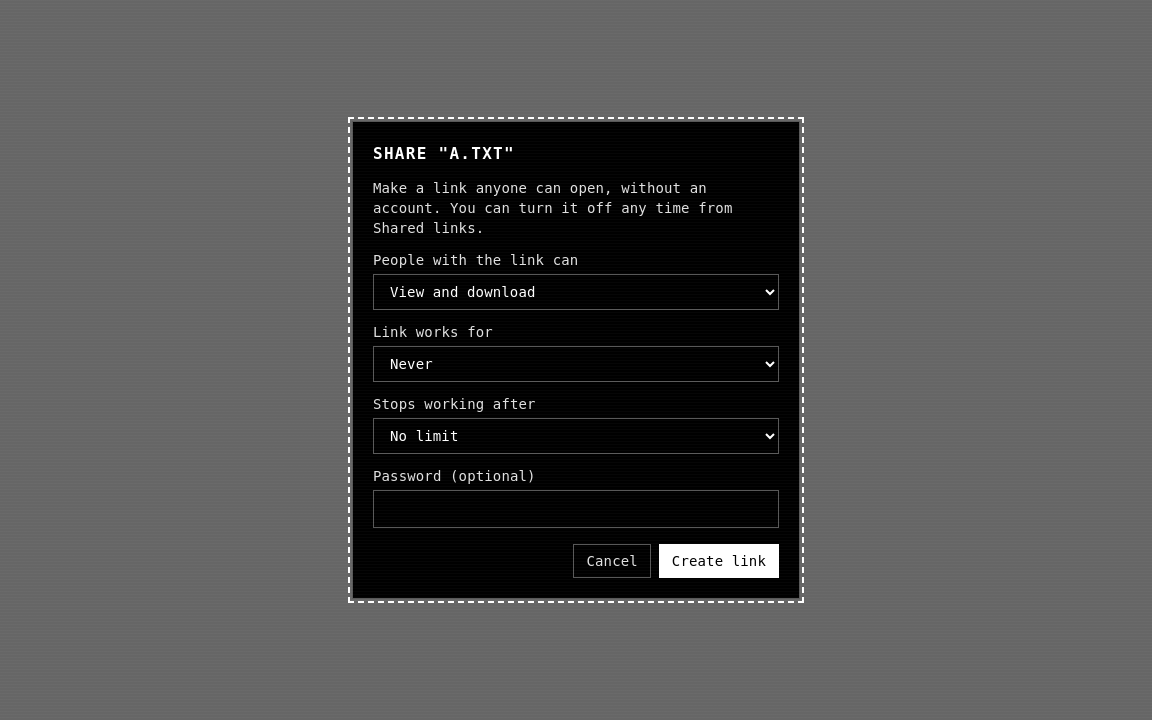
Test: Share dialog honesty › says the link is private-network only when no public address is set
The width and height of the screenshot is (1152, 720).
Click the button "Create link".
click(719, 561)  # box [659,544,779,578]
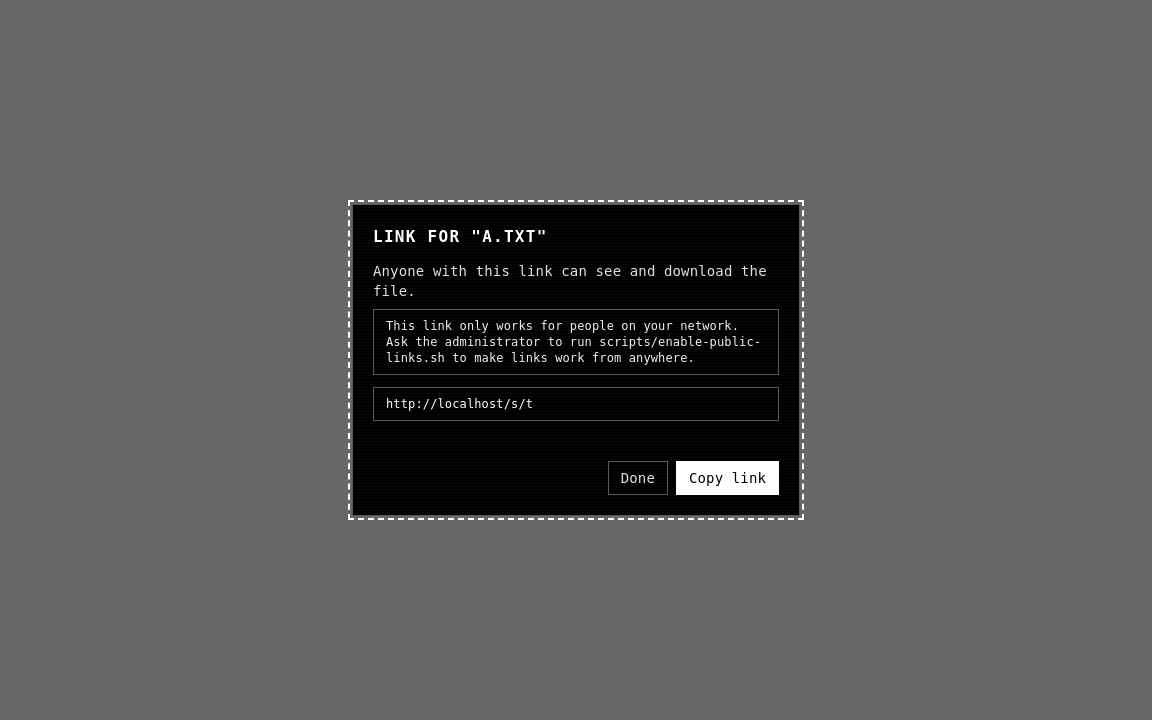
Now the text "only works for people on your network" is shown, box [386,319,761,365]
